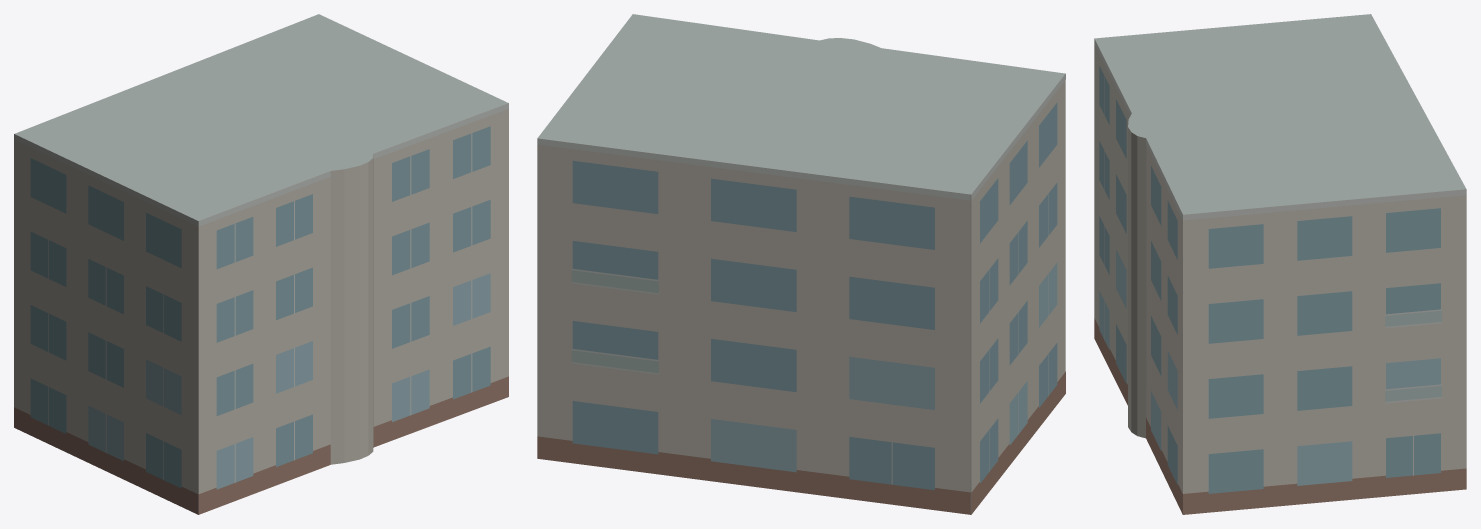
The model's file is survey-upis-32946004.glb.
3 renders of one model, left to right at view 1: azimuth 30°, elevation 25°; view 2: azimuth 150°, elevation 25°; view 3: azimuth 270°, elevation 25°, orthographic. The views are drawn at different scales.
Visible parts, largest first — view 1: survey-upis-32946004.tmp; view 2: survey-upis-32946004.tmp; view 3: survey-upis-32946004.tmp.
Boxes of the visible parts, bbox=[...] form: survey-upis-32946004.tmp: bbox=[14, 14, 508, 514]; survey-upis-32946004.tmp: bbox=[537, 14, 1065, 514]; survey-upis-32946004.tmp: bbox=[1094, 14, 1466, 514].
Bounding box in the file's own units: 18.37 × 12.8 × 14.4.
